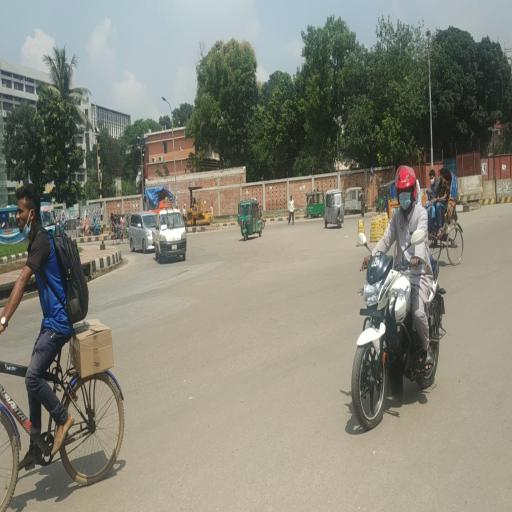bicycle: (1, 333, 128, 512)
minivan: (130, 212, 154, 255)
motorbike: (346, 262, 446, 438)
pickup: (159, 210, 189, 262)
rickshaw: (426, 166, 464, 261), (109, 214, 130, 246), (388, 179, 398, 204)
three wheelers (CNG): (240, 199, 263, 242), (325, 189, 346, 231), (346, 187, 369, 218), (306, 192, 324, 221), (65, 218, 83, 239)
